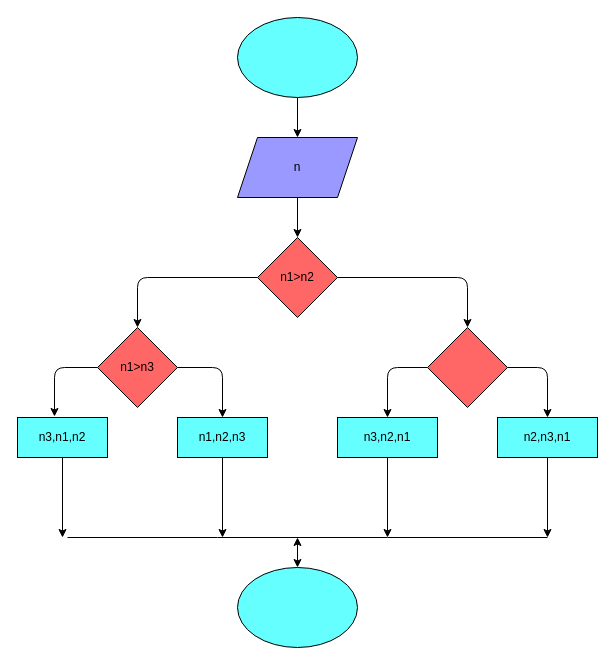
This 615x665 diagram has some shape labels left out. The shapes that lost their labels are listed below. From the top down, each one's box as (x1, y1, x2, y2) in pixels, then its label:
(236, 16, 358, 98): inicio
(426, 326, 508, 408): n2>n3
(236, 566, 358, 648): fin
